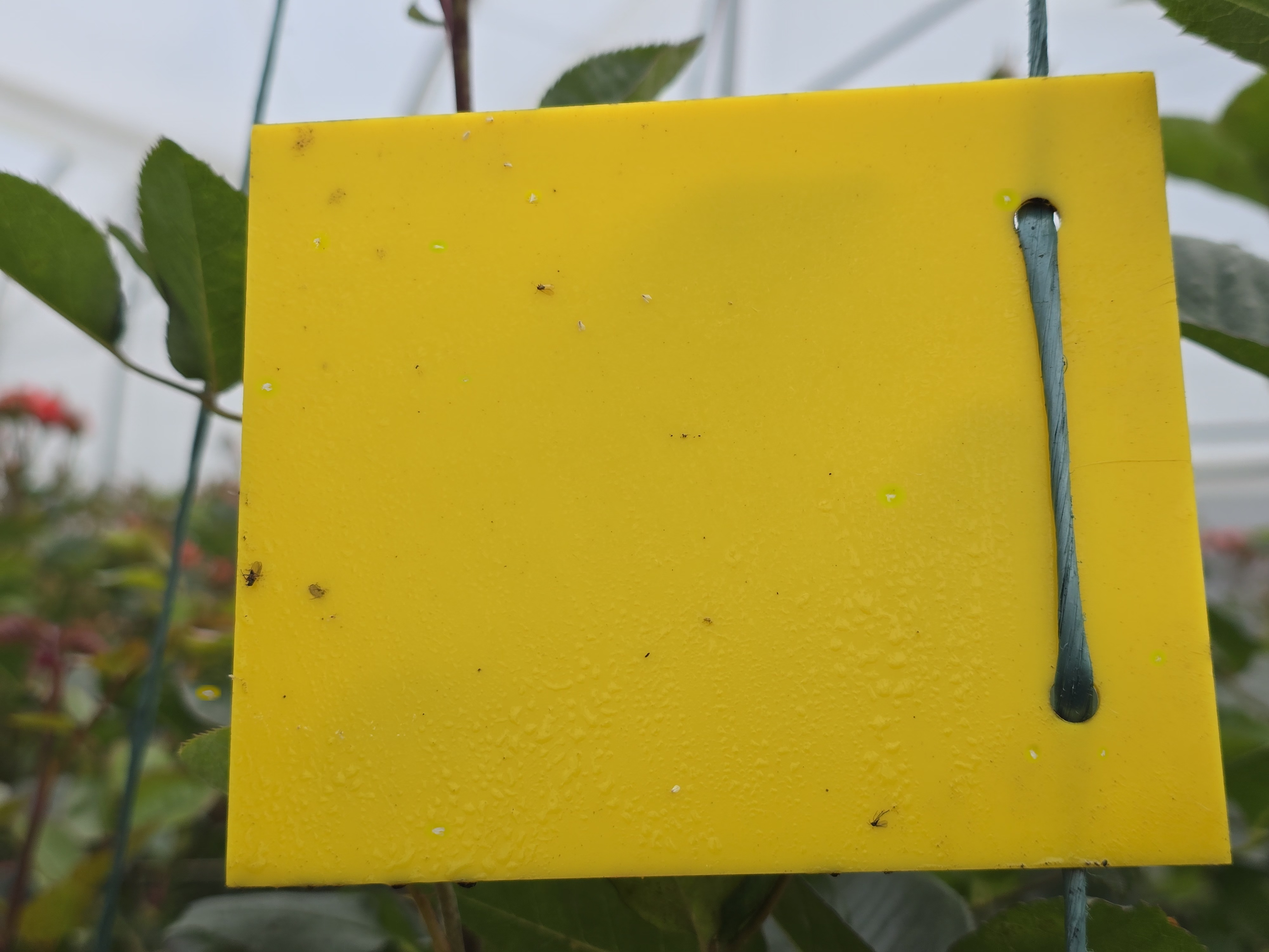WF: (880, 487, 902, 505), (257, 379, 277, 395), (997, 192, 1017, 208), (427, 823, 448, 837), (573, 318, 590, 335), (667, 782, 686, 795), (313, 234, 328, 250), (639, 293, 654, 307), (199, 687, 217, 698), (1026, 746, 1039, 760), (1151, 651, 1164, 664), (502, 158, 516, 170), (431, 241, 445, 251), (527, 191, 539, 202), (463, 131, 475, 141), (486, 116, 498, 124), (1098, 748, 1107, 758), (459, 376, 470, 383)
